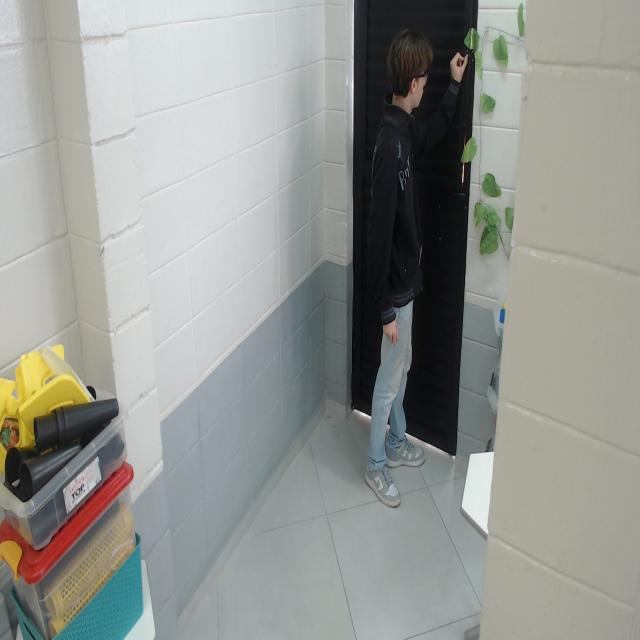oculos-epi: (414, 71, 428, 86)
